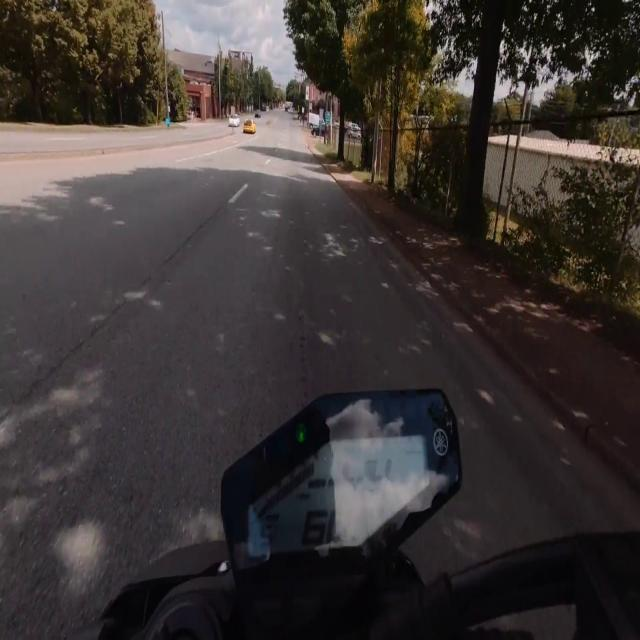car: (243, 120, 255, 133), (229, 115, 239, 127), (255, 112, 260, 118)
motorcycle: (73, 391, 639, 639)
